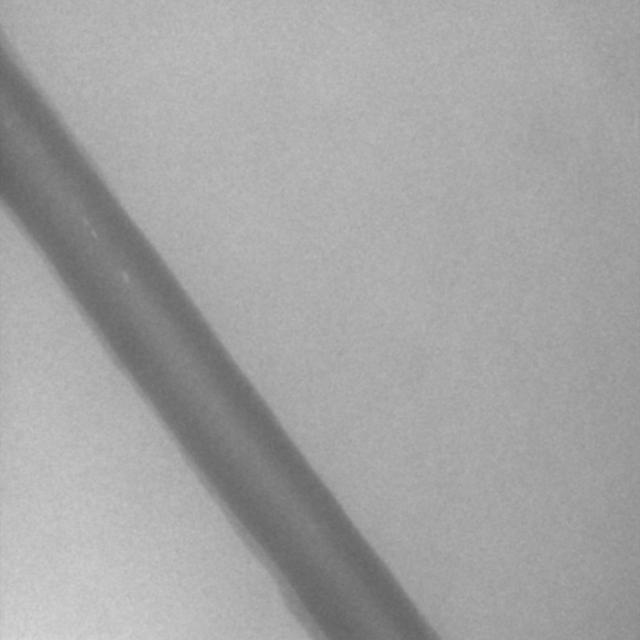air-hole: (306, 516, 314, 537), (120, 268, 130, 282), (79, 216, 89, 226), (94, 231, 96, 245)
